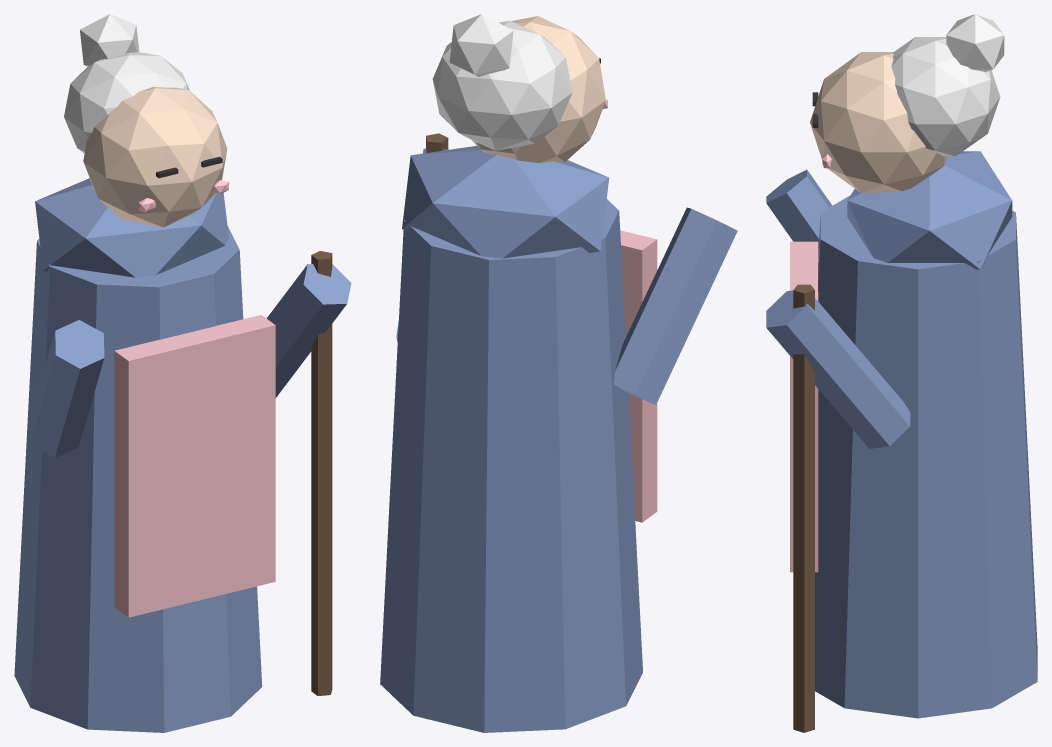
File: obaachan.glb
3 renders of one model, left to right at view 1: azimuth 30°, elevation 25°; view 2: azimuth 150°, elevation 25°; view 3: azimuth 270°, elevation 25°, orthographic. The views are drawn at different scales.
Parts seen in each view (by area): view 1: obaachan; view 2: obaachan; view 3: obaachan.
Boxes of the visible parts, <box> form: obaachan: <box>14,14,351,732</box>; obaachan: <box>380,14,737,732</box>; obaachan: <box>766,14,1037,732</box>.
Bounding box in the file's own units: 0.6029 × 1.26 × 0.4757.
